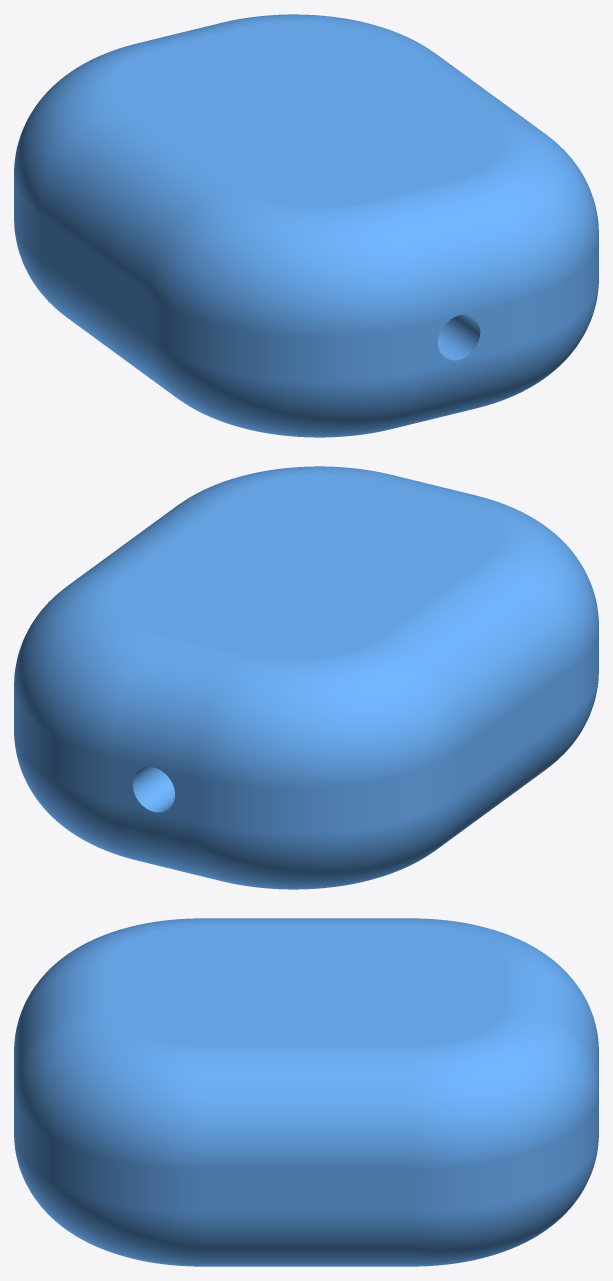
File: Rect new.glb
3 renders of one model, top to bottom at view 1: azimuth 30°, elevation 25°; view 2: azimuth 150°, elevation 25°; view 3: azimuth 270°, elevation 25°, orthographic. The views are drawn at different scales.
Bounding box in the file's own units: 0.02 × 0.01 × 0.025.
